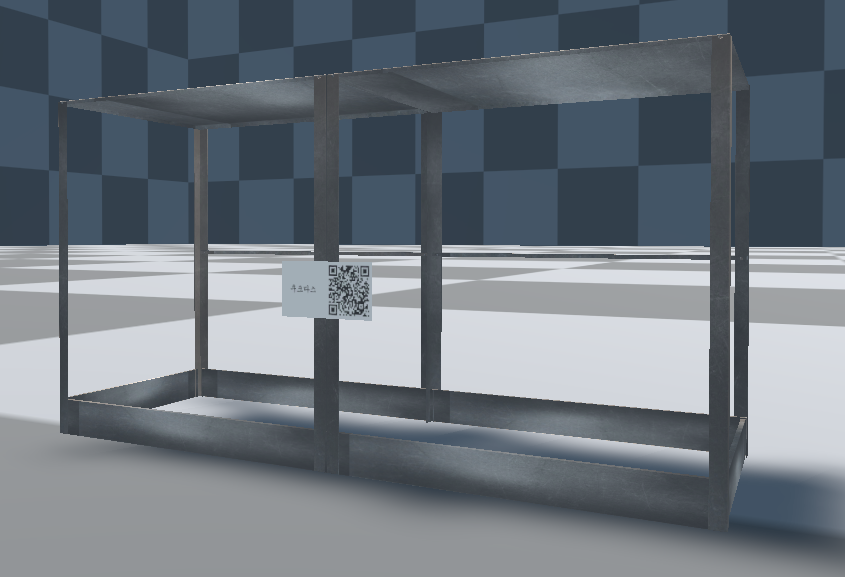Rack: (59, 30, 753, 536)
